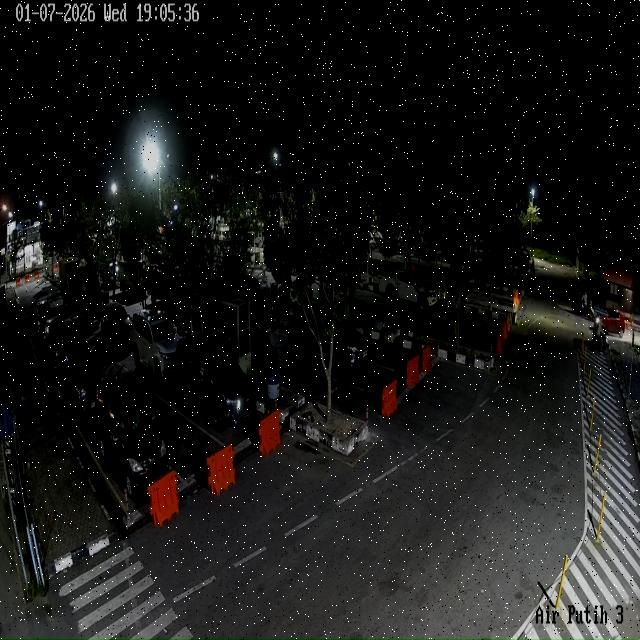Golongan IVA: (96, 376, 169, 499), (172, 334, 256, 432), (288, 306, 369, 380), (129, 309, 178, 384), (59, 334, 102, 417), (43, 316, 69, 370), (101, 301, 131, 347), (600, 308, 626, 338), (36, 300, 52, 340)
Golongan IVB: (378, 269, 438, 312)
Golongan VB: (58, 258, 108, 322)
